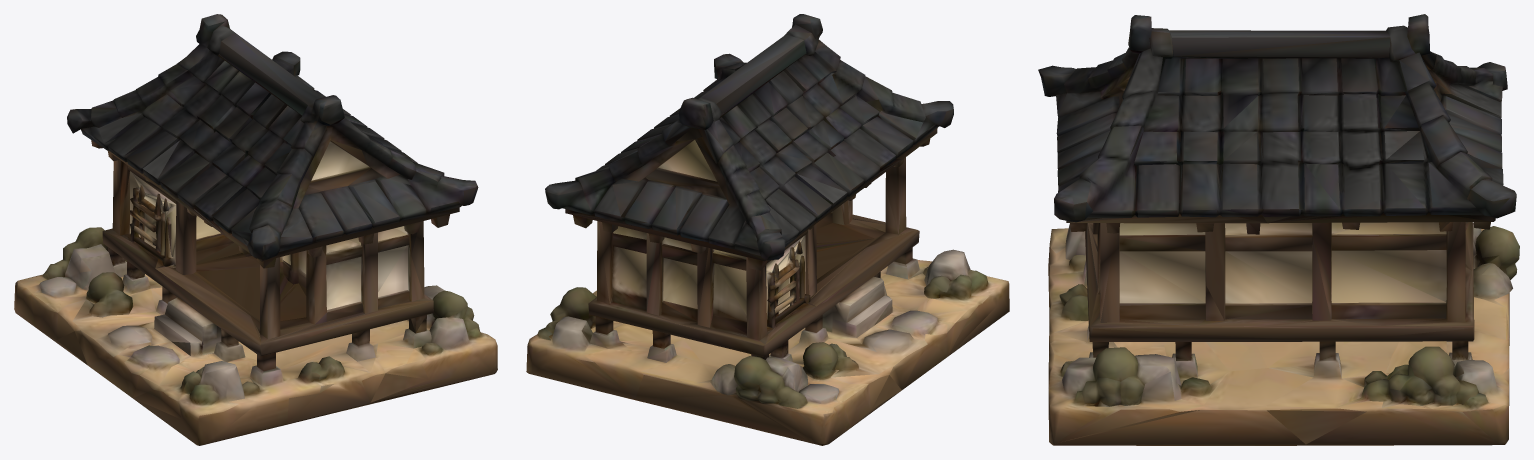
File: dojo.glb
3 views of the same model, side by side, from view 1: azimuth 30°, elevation 25°; view 2: azimuth 150°, elevation 25°; view 3: azimuth 270°, elevation 25° (orthographic). The views are drawn at different scales.
Visible parts, largest first — view 1: tripo_node_f5a56e08-c0c6-4656-821d-b1d328c835f9; view 2: tripo_node_f5a56e08-c0c6-4656-821d-b1d328c835f9; view 3: tripo_node_f5a56e08-c0c6-4656-821d-b1d328c835f9.
Boxes of the visible parts, <box> form: tripo_node_f5a56e08-c0c6-4656-821d-b1d328c835f9: <box>14,14,497,445</box>; tripo_node_f5a56e08-c0c6-4656-821d-b1d328c835f9: <box>526,14,1009,445</box>; tripo_node_f5a56e08-c0c6-4656-821d-b1d328c835f9: <box>1038,14,1519,445</box>.
Size of the model in its own units: 0.88 by 0.7836 by 0.9812.
1 material, 1 textured.
